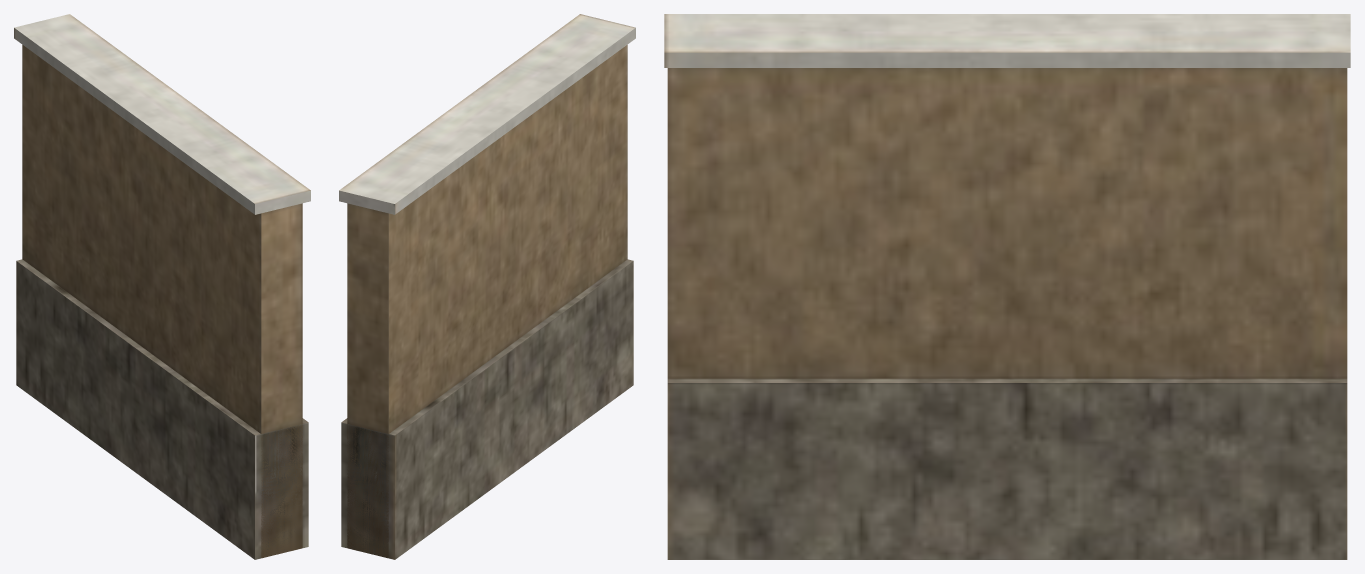
The model's file is compound_wall.glb.
3 views of the same model, side by side, from view 1: azimuth 30°, elevation 25°; view 2: azimuth 150°, elevation 25°; view 3: azimuth 270°, elevation 25° (orthographic). The views are drawn at different scales.
Parts seen in each view (by area): view 1: compound_wall; view 2: compound_wall; view 3: compound_wall.
Part boxes in pixels (x1=…): compound_wall: x1=14, y1=14, x2=310, y2=559; compound_wall: x1=339, y1=14, x2=635, y2=559; compound_wall: x1=664, y1=14, x2=1350, y2=559.
Size of the model in its own units: 0.54 by 3.3 by 4.04.
Materials: 1 (1 with a texture image).
